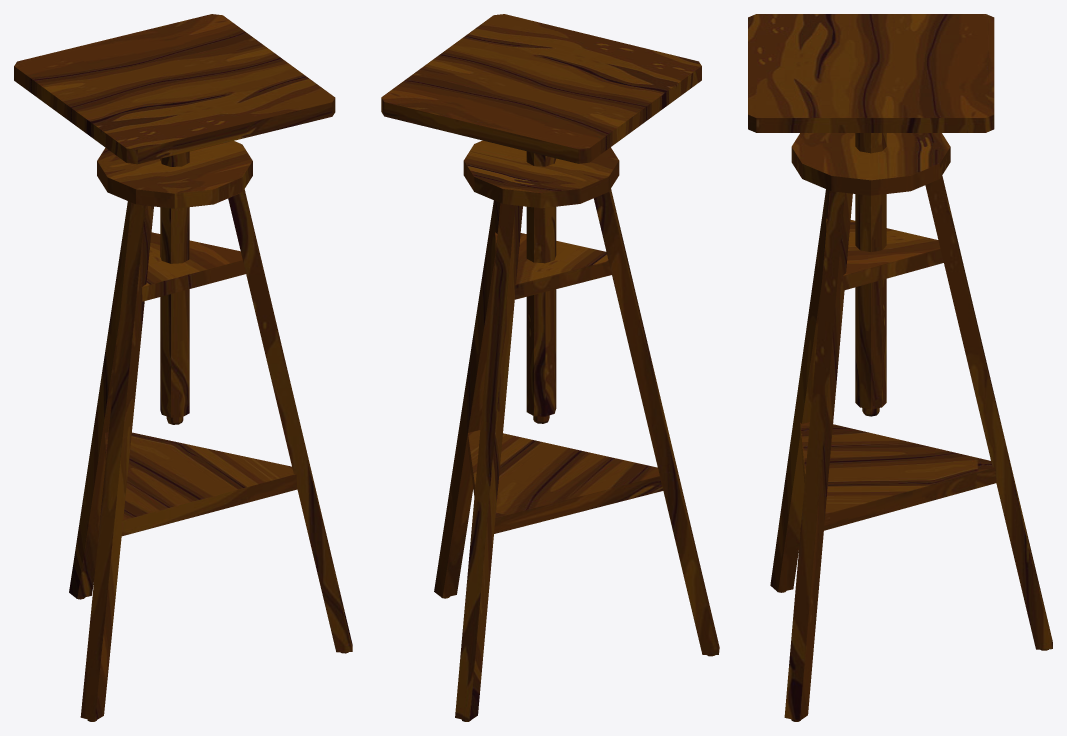
Rendered from sculpture-stand.gltf.
3 views of the same model, side by side, from view 1: azimuth 30°, elevation 25°; view 2: azimuth 150°, elevation 25°; view 3: azimuth 270°, elevation 25° (orthographic). The views are drawn at different scales.
Parts seen in each view (by area): view 1: sculpture_stand; view 2: sculpture_stand; view 3: sculpture_stand.
Boxes of the visible parts, x1,y1,x2,y2 form: sculpture_stand: [14, 14, 352, 721]; sculpture_stand: [381, 14, 719, 721]; sculpture_stand: [748, 14, 1052, 721].
Bounding box in the file's own units: 2.29 × 4.52 × 2.12.
Materials: 1 (1 with a texture image).
